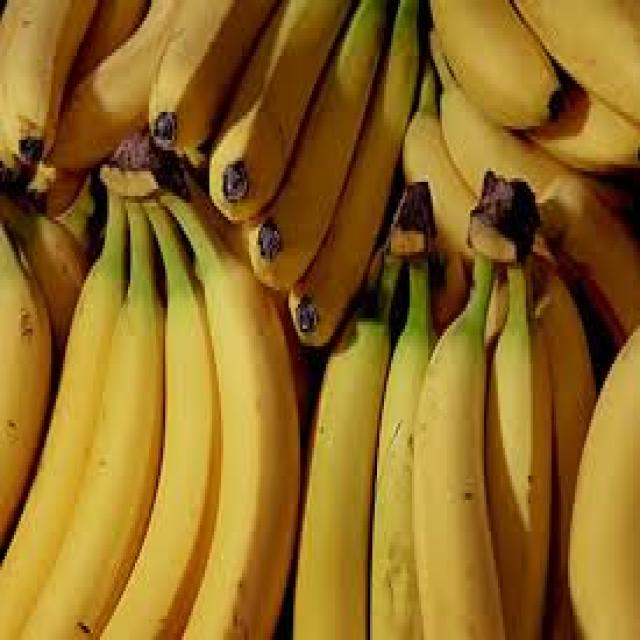banana: (6, 141, 300, 640), (149, 0, 420, 333), (419, 157, 563, 640), (310, 172, 438, 640)
